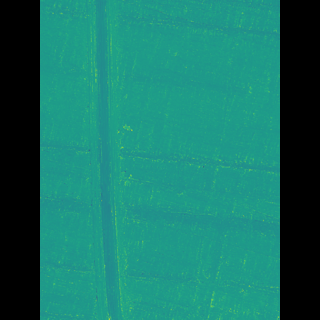Loch: (102, 0, 139, 320)
